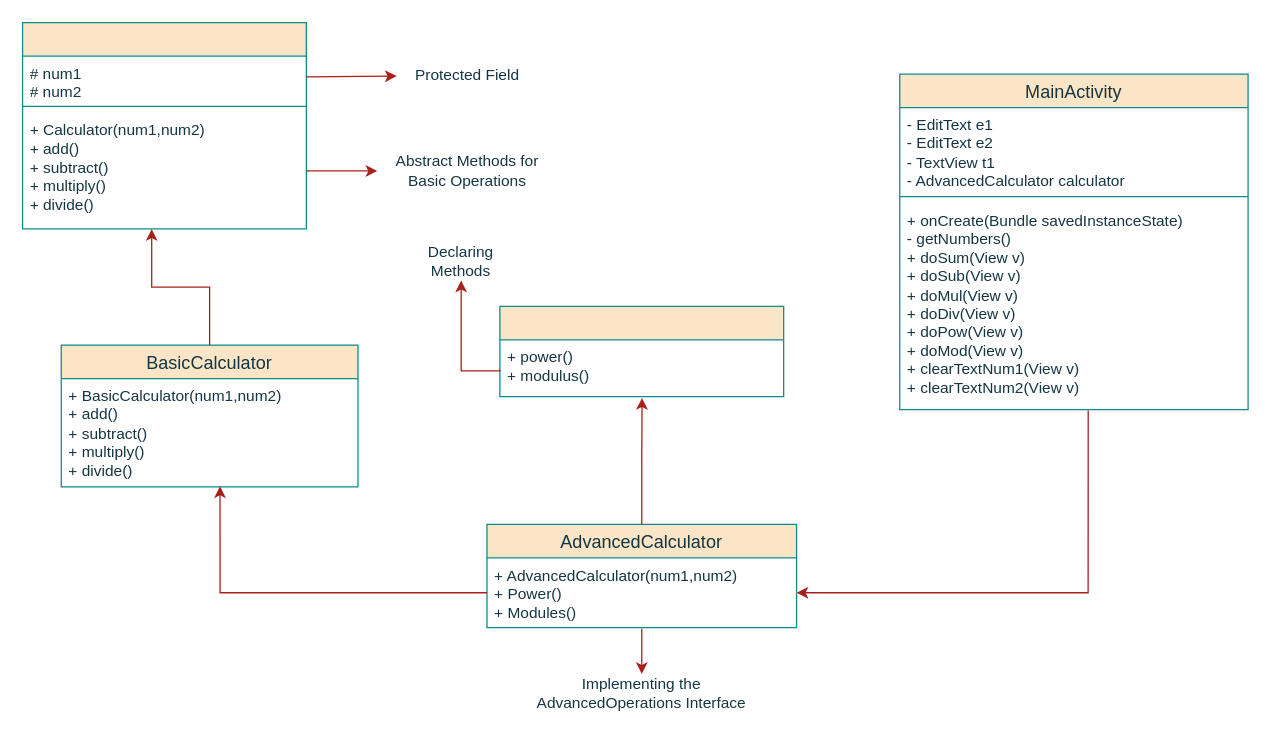
Some shapes in this 1271 by 735 pixel diagram are drawn without their labels. Each missing label, with the box of its shape:
AdvancedOperations(Interface): (499, 305, 784, 397)
Calculator(Abstract Class): (21, 21, 306, 229)
